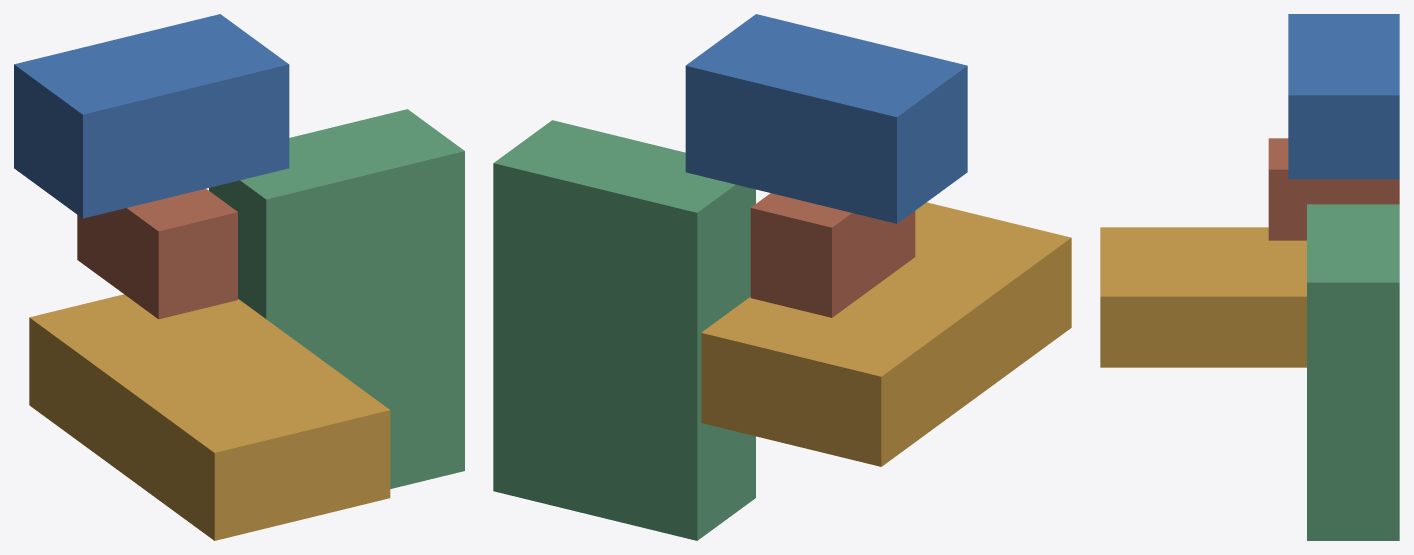
3 views of the same model, side by side, from view 1: azimuth 30°, elevation 25°; view 2: azimuth 150°, elevation 25°; view 3: azimuth 270°, elevation 25° (orthographic). The views are drawn at different scales.
Visible parts, largest first — view 1: wardrobe, bed, desk, chair; view 2: bed, wardrobe, desk, chair; view 3: bed, wardrobe, desk, chair.
Part boxes in pixels (x1,y1,x2,y2): wardrobe: [29, 294, 390, 540]; bed: [209, 109, 464, 488]; desk: [14, 14, 289, 218]; chair: [77, 188, 237, 319]; bed: [493, 120, 755, 540]; wardrobe: [701, 202, 1071, 466]; desk: [685, 14, 967, 223]; chair: [750, 193, 915, 317]; bed: [1307, 204, 1399, 540]; wardrobe: [1100, 227, 1306, 367]; desk: [1288, 14, 1399, 179]; chair: [1268, 138, 1399, 240].
Bounding box in the file's own units: 2.58 × 2.88 × 2.1.
